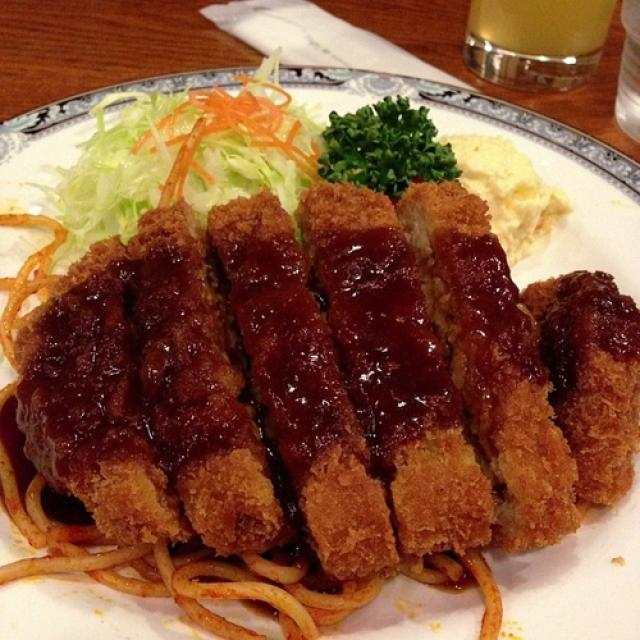炸货点心: (15, 53, 626, 636)
